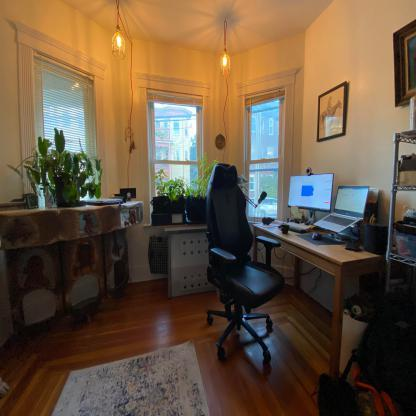chair: (200, 159, 290, 375)
light: (106, 0, 131, 66), (215, 15, 240, 80)
table: (0, 194, 153, 349), (249, 217, 384, 382), (164, 227, 203, 299)
